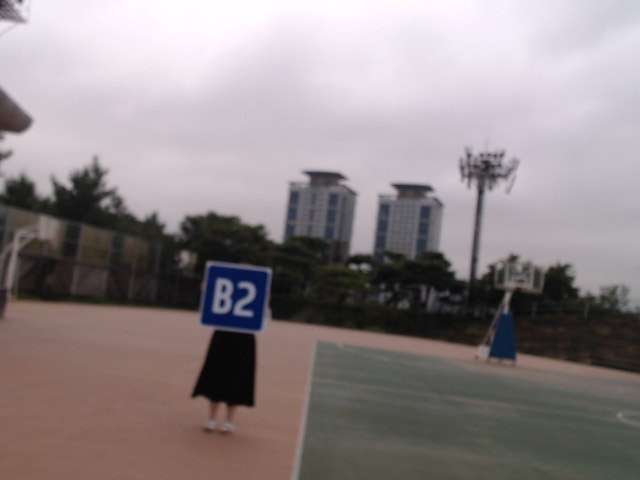delivery_b2: (197, 262, 269, 332)
